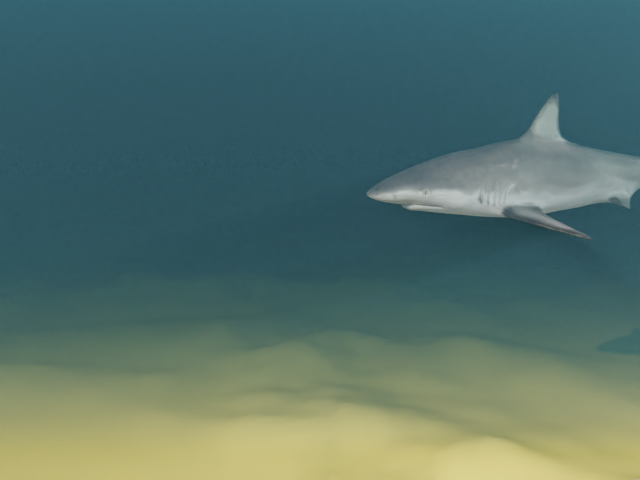Carribean Shark.001: (366, 93, 640, 239)
